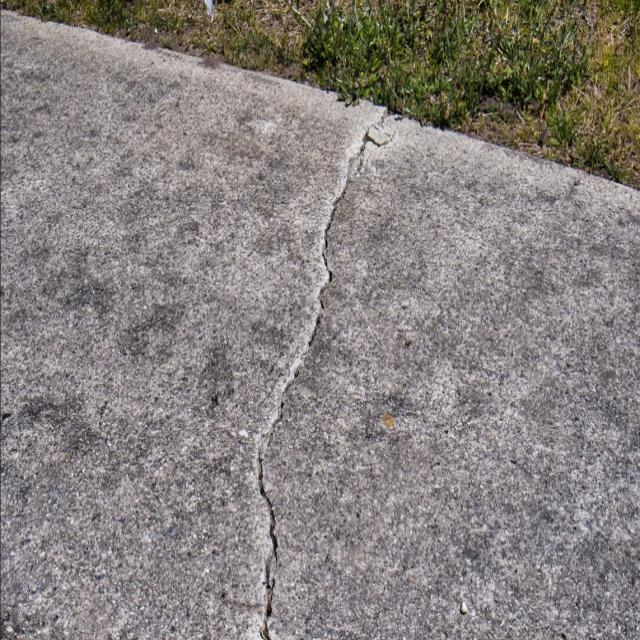Pothole: (37, 11, 640, 328)
